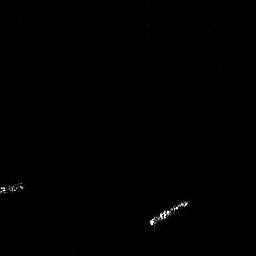ship: (145, 196, 194, 231), (1, 178, 30, 199)
